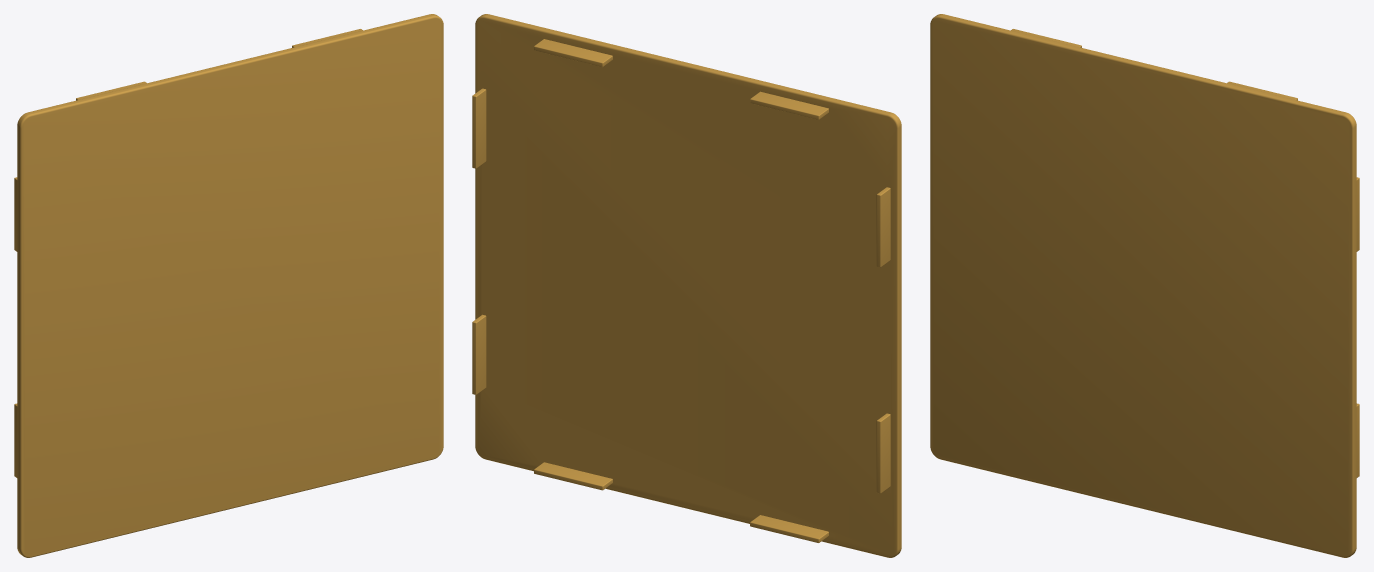
The model's file is MCDR.glb.
The picture shows the model from 3 angles, left to right: view 1: azimuth 30°, elevation 25°; view 2: azimuth 150°, elevation 25°; view 3: azimuth 330°, elevation 25°; orthographic projection.
Visible parts, largest first — view 1: MCDR_Gold; view 2: MCDR_Gold; view 3: MCDR_Gold.
Part boxes in pixels (box(x1,y1,x2,y2)): MCDR_Gold: box(14, 14, 443, 557); MCDR_Gold: box(472, 14, 901, 557); MCDR_Gold: box(930, 14, 1359, 557).
Bounding box in the file's own units: 196 × 196 × 11.4.
